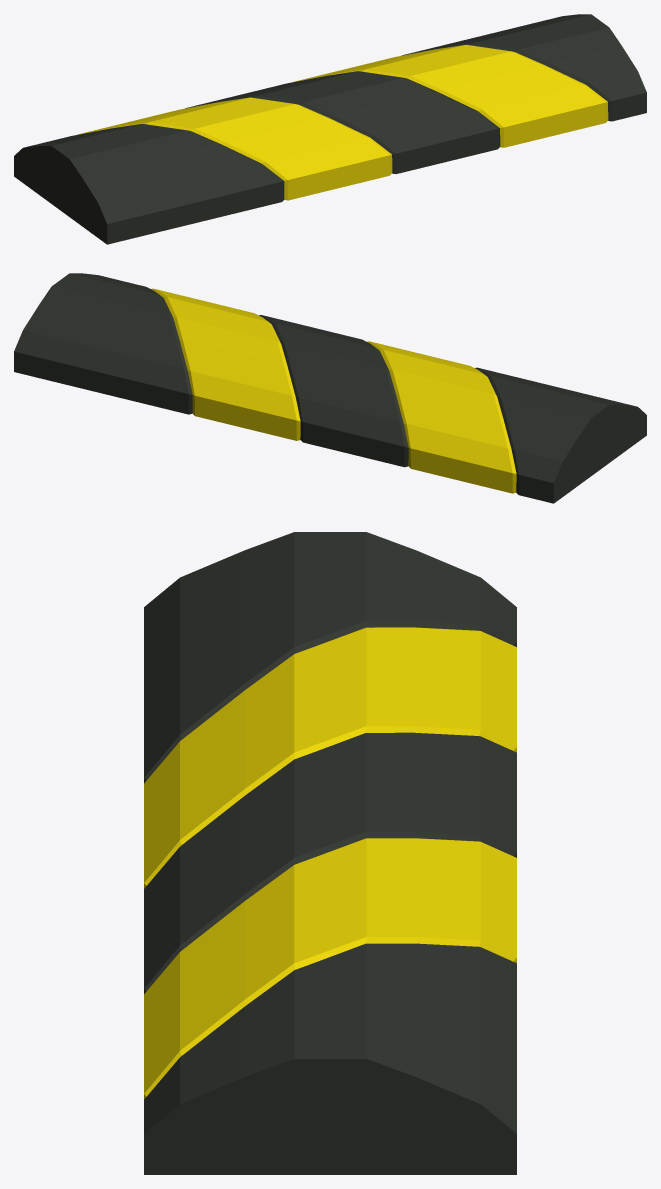
Rendered from SM_carbumper.fbx.
The picture shows the model from 3 angles, top to bottom: view 1: azimuth 30°, elevation 25°; view 2: azimuth 150°, elevation 25°; view 3: azimuth 270°, elevation 25°; orthographic projection. The views are drawn at different scales.
Parts seen in each view (by area): view 1: carbumper; view 2: carbumper; view 3: carbumper.
Part boxes in pixels (x1,y1,x2,y2): carbumper: [14, 14, 646, 244]; carbumper: [14, 273, 646, 503]; carbumper: [144, 532, 516, 1174].
Size of the model in its own units: 121 by 12.46 by 36.27.
